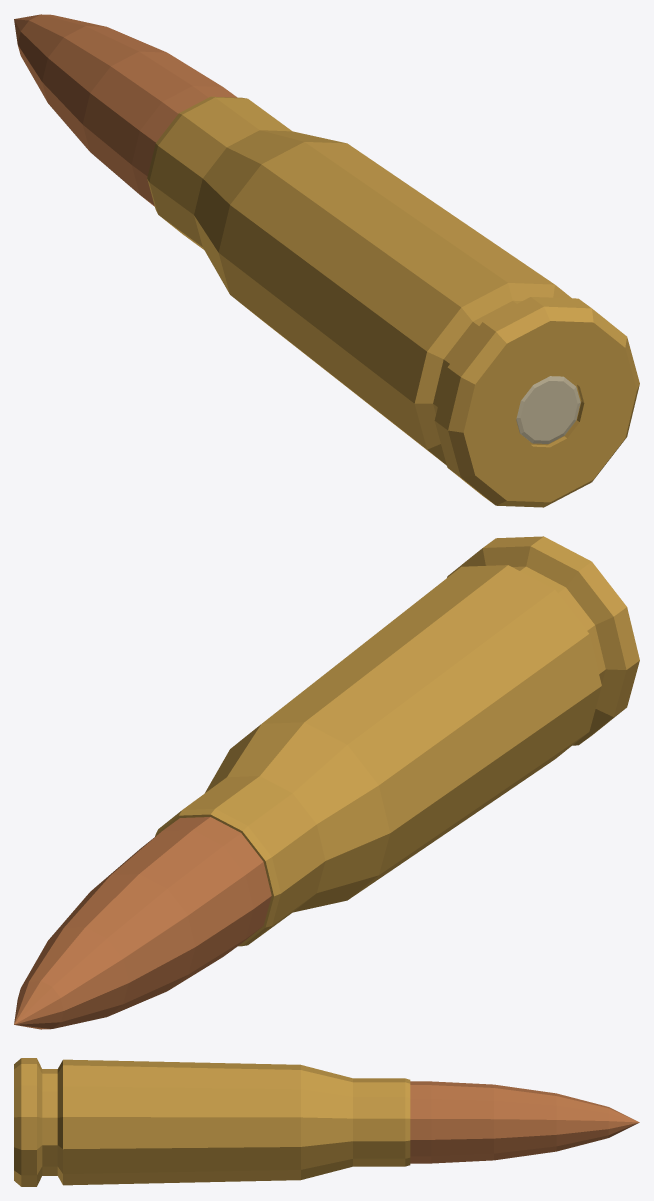
File: bullet_ak.glb
3 renders of one model, top to bottom at view 1: azimuth 30°, elevation 25°; view 2: azimuth 150°, elevation 25°; view 3: azimuth 270°, elevation 25°, orthographic. The views are drawn at different scales.
Visible parts, largest first — view 1: Casing, Projectile, Primer; view 2: Casing, Projectile; view 3: Casing, Projectile.
Boxes of the visible parts, <box> form: Casing: <box>147,96,639,507</box>; Projectile: <box>14,14,237,206</box>; Primer: <box>516,376,580,443</box>; Casing: <box>155,536,639,946</box>; Projectile: <box>14,817,271,1029</box>; Casing: <box>14,1058,410,1186</box>; Projectile: <box>410,1081,639,1163</box>.
Size of the model in its own units: 0.0124 by 0.0124 by 0.06.
